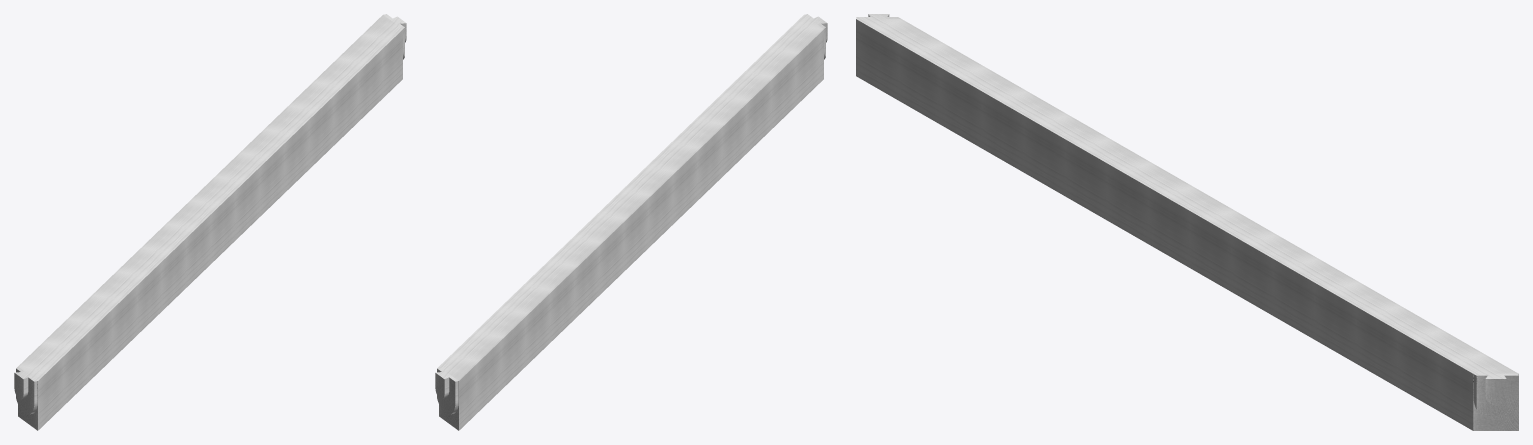
Rendered from Beam.glb.
3 views of the same model, side by side, from view 1: azimuth 30°, elevation 25°; view 2: azimuth 210°, elevation 25°; view 3: azimuth 270°, elevation 25° (orthographic). The views are drawn at different scales.
Parts seen in each view (by area): view 1: 大梁_0; view 2: 大梁_0; view 3: 大梁_0.
Boxes of the visible parts, bbox=[...] form: 大梁_0: bbox=[14, 14, 406, 430]; 大梁_0: bbox=[435, 14, 827, 430]; 大梁_0: bbox=[856, 14, 1518, 430].
Bounding box in the file's own units: 2.46 × 0.18 × 1.89.
Materials: 2 (2 with a texture image).
